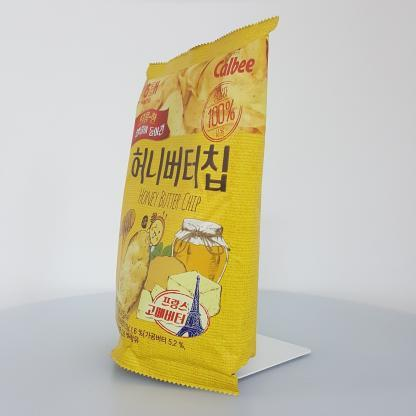Plastic Packaging: (100, 10, 292, 402)
